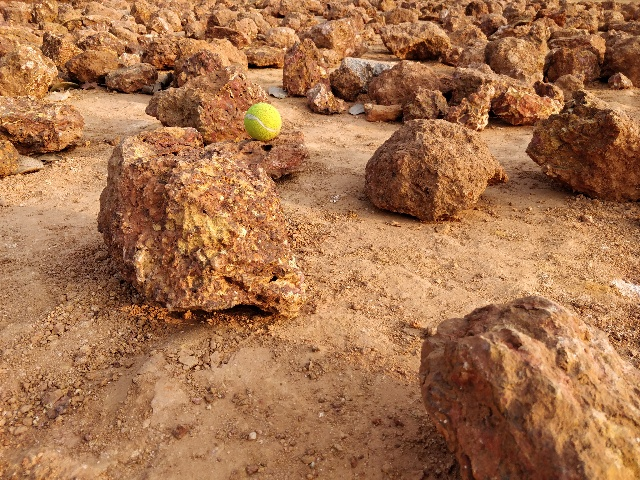ball: (236, 95, 288, 144)
